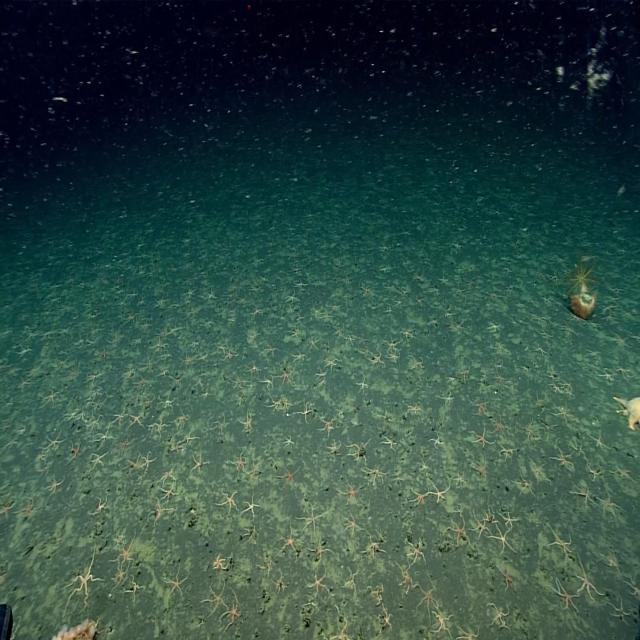brittle-stars: (68, 547, 102, 605), (576, 557, 602, 603), (415, 580, 438, 620), (553, 579, 580, 611), (163, 564, 188, 596), (547, 527, 572, 559), (396, 559, 418, 594), (298, 504, 323, 534), (223, 590, 242, 628), (278, 523, 298, 559), (200, 584, 227, 610), (431, 606, 455, 635), (490, 524, 514, 553), (117, 531, 137, 565), (597, 492, 623, 518), (306, 570, 331, 597), (608, 595, 630, 625), (529, 457, 551, 486), (570, 482, 595, 507), (487, 602, 510, 629), (448, 515, 468, 546), (472, 508, 491, 539), (552, 445, 575, 470), (278, 464, 300, 490), (469, 426, 493, 449), (407, 538, 426, 566), (364, 530, 383, 558), (365, 464, 389, 486), (514, 474, 536, 497), (340, 480, 360, 505), (589, 431, 611, 453), (310, 540, 332, 562), (15, 497, 36, 520), (430, 479, 450, 503), (341, 566, 358, 594), (44, 474, 65, 496), (499, 507, 519, 530), (345, 441, 368, 461), (218, 490, 238, 513), (160, 480, 179, 504), (111, 563, 129, 588), (242, 494, 260, 519), (148, 501, 166, 526), (552, 403, 573, 424), (491, 415, 509, 439), (344, 512, 362, 535), (128, 576, 145, 600), (472, 454, 487, 481), (377, 607, 393, 632), (409, 486, 429, 506), (44, 432, 66, 450), (331, 618, 349, 640), (96, 424, 112, 448), (497, 442, 517, 461), (611, 330, 630, 350), (367, 583, 384, 605), (612, 464, 634, 481), (117, 433, 134, 455), (523, 420, 539, 443), (125, 454, 141, 477), (89, 451, 108, 470), (616, 362, 634, 382), (468, 398, 488, 416), (191, 450, 207, 472), (91, 496, 109, 515), (149, 419, 168, 437), (212, 412, 228, 433), (247, 460, 262, 482), (0, 499, 16, 519), (277, 367, 293, 387), (626, 575, 640, 597), (572, 437, 586, 459), (406, 402, 424, 419), (160, 393, 176, 412), (112, 407, 127, 427), (456, 627, 479, 640), (44, 388, 60, 406), (86, 411, 102, 429), (128, 412, 144, 430), (140, 452, 156, 470), (231, 372, 247, 390), (438, 390, 454, 408), (68, 442, 81, 464), (382, 433, 397, 452), (299, 402, 313, 422), (232, 452, 246, 472), (175, 408, 189, 428), (598, 367, 614, 384), (319, 417, 334, 435), (159, 468, 174, 486), (263, 341, 278, 359), (370, 350, 383, 370), (430, 431, 443, 451), (140, 356, 156, 372), (240, 412, 253, 431), (168, 319, 181, 338), (182, 351, 195, 370), (326, 439, 341, 455), (356, 374, 368, 394), (385, 334, 400, 350), (134, 375, 148, 392), (261, 374, 274, 392), (251, 304, 265, 320), (400, 325, 414, 341), (184, 430, 197, 447), (18, 374, 30, 392), (315, 367, 328, 383), (292, 278, 308, 291), (214, 553, 226, 570), (309, 335, 320, 353), (285, 291, 299, 305), (223, 348, 236, 362), (288, 262, 302, 275), (454, 471, 466, 486), (170, 439, 182, 454), (487, 320, 502, 332), (459, 364, 470, 380), (329, 300, 342, 313), (283, 434, 295, 448), (326, 356, 338, 370), (387, 351, 399, 365), (418, 459, 429, 474), (287, 328, 300, 340), (358, 333, 368, 347), (215, 342, 226, 354), (36, 452, 46, 464), (438, 274, 448, 286), (384, 283, 394, 295), (564, 389, 574, 398)
